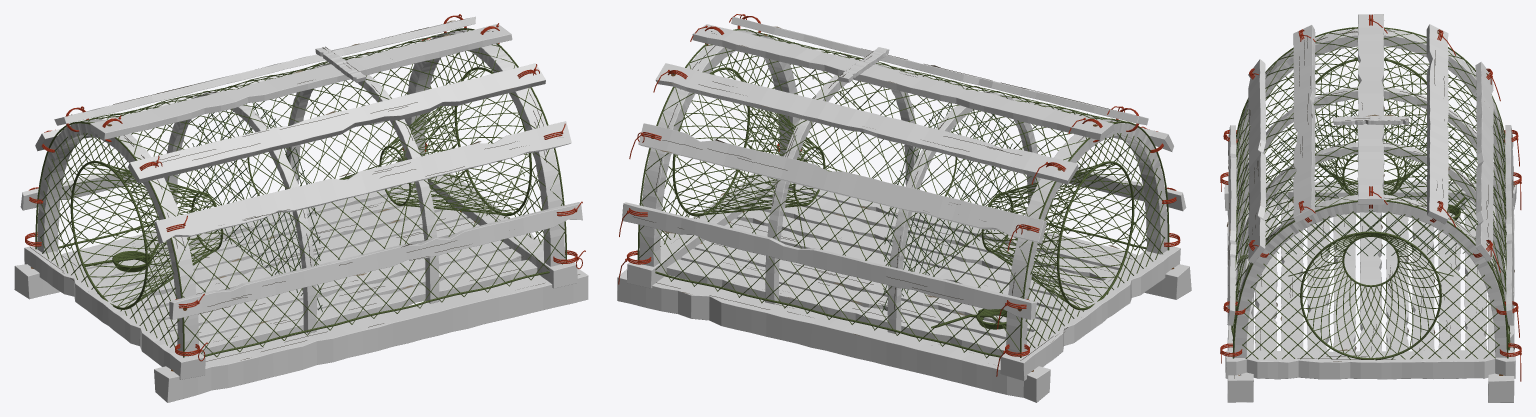
Rendered from lobster_trap_decimated.glb.
The picture shows the model from 3 angles, left to right: view 1: azimuth 30°, elevation 25°; view 2: azimuth 150°, elevation 25°; view 3: azimuth 270°, elevation 25°; orthographic projection. The views are drawn at different scales.
Visible parts, largest first — view 1: Funnel entrances and parlor | Optimized mesh, Knotted green shell net | Optimized mesh, Base | Long worn runner, Roof | Sun-bleached lath 00, Roof | Sun-bleached lath 01, Roof | Sun-bleached lath 02, Side | Lower rubbing lath, Frame | Bent oak bow 00, Base | End bearer, Floor | Gapped timber slat 00, Frame | Bent oak bow 03, Floor | Gapped timber slat 01 (+16 smaller); view 2: Funnel entrances and parlor | Optimized mesh, Knotted green shell net | Optimized mesh, Base | Long worn runner.001, Roof | Sun-bleached lath 03, Roof | Sun-bleached lath 04, Roof | Sun-bleached lath 02, Side | Lower rubbing lath.001, Frame | Bent oak bow 00, Base | End bearer, Floor | Gapped timber slat 08, Frame | Bent oak bow 03, Floor | Gapped timber slat 07 (+16 smaller); view 3: Funnel entrances and parlor | Optimized mesh, Knotted green shell net | Optimized mesh, Base | End bearer.001, Frame | Bent oak bow 03, Roof | Sun-bleached lath 02, Frame | Bent oak bow 00, Roof | Sun-bleached lath 03, Roof | Sun-bleached lath 01, Roof | Sun-bleached lath 00, Roof | Sun-bleached lath 04, Frame | Bent oak bow 01, Floor | Gapped timber slat 04 (+17 smaller).
Part boxes in pixels (x1=…): Funnel entrances and parlor | Optimized mesh: x1=40, y1=51, x2=543, y2=347; Knotted green shell net | Optimized mesh: x1=35, y1=28, x2=566, y2=357; Base | Long worn runner: x1=154, y1=268, x2=588, y2=402; Roof | Sun-bleached lath 00: x1=154, y1=121, x2=571, y2=243; Roof | Sun-bleached lath 01: x1=128, y1=63, x2=545, y2=183; Roof | Sun-bleached lath 02: x1=90, y1=23, x2=512, y2=139; Side | Lower rubbing lath: x1=169, y1=202, x2=582, y2=319; Frame | Bent oak bow 00: x1=37, y1=119, x2=198, y2=356; Base | End bearer: x1=24, y1=246, x2=205, y2=379; Floor | Gapped timber slat 00: x1=199, y1=260, x2=537, y2=355; Frame | Bent oak bow 03: x1=403, y1=30, x2=564, y2=266; Floor | Gapped timber slat 01: x1=169, y1=248, x2=521, y2=338; Funnel entrances and parlor | Optimized mesh: x1=660, y1=51, x2=1164, y2=348; Knotted green shell net | Optimized mesh: x1=637, y1=29, x2=1169, y2=358; Base | Long worn runner.001: x1=617, y1=269, x2=1050, y2=402; Roof | Sun-bleached lath 03: x1=655, y1=63, x2=1078, y2=184; Roof | Sun-bleached lath 04: x1=638, y1=123, x2=1046, y2=243; Roof | Sun-bleached lath 02: x1=692, y1=24, x2=1114, y2=140; Side | Lower rubbing lath.001: x1=622, y1=202, x2=1036, y2=319; Frame | Bent oak bow 00: x1=1006, y1=119, x2=1167, y2=356; Base | End bearer: x1=1000, y1=246, x2=1180, y2=380; Floor | Gapped timber slat 08: x1=666, y1=259, x2=1006, y2=355; Frame | Bent oak bow 03: x1=639, y1=29, x2=800, y2=266; Floor | Gapped timber slat 07: x1=681, y1=249, x2=1032, y2=339; Funnel entrances and parlor | Optimized mesh: x1=1242, y1=48, x2=1499, y2=359; Knotted green shell net | Optimized mesh: x1=1231, y1=27, x2=1510, y2=358; Base | End bearer.001: x1=1225, y1=350, x2=1515, y2=379; Frame | Bent oak bow 03: x1=1234, y1=195, x2=1506, y2=357; Roof | Sun-bleached lath 02: x1=1357, y1=14, x2=1384, y2=204; Frame | Bent oak bow 00: x1=1236, y1=28, x2=1505, y2=192; Roof | Sun-bleached lath 03: x1=1426, y1=24, x2=1448, y2=224; Roof | Sun-bleached lath 01: x1=1293, y1=25, x2=1315, y2=222; Roof | Sun-bleached lath 00: x1=1248, y1=59, x2=1266, y2=263; Roof | Sun-bleached lath 04: x1=1475, y1=61, x2=1493, y2=261; Frame | Bent oak bow 01: x1=1236, y1=87, x2=1505, y2=253; Floor | Gapped timber slat 04: x1=1360, y1=212, x2=1381, y2=351.
Bounding box in the file's own units: 1.48 × 0.7551 × 0.9901.
